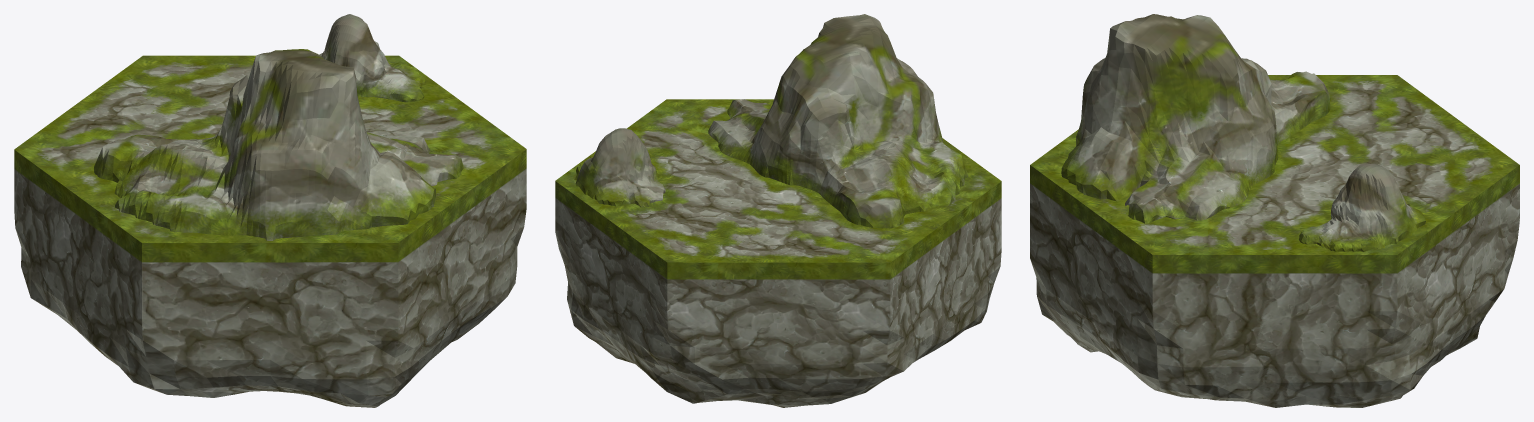
The model's file is mountainChunk.glb.
3 renders of one model, left to right at view 1: azimuth 30°, elevation 25°; view 2: azimuth 150°, elevation 25°; view 3: azimuth 270°, elevation 25°, orthographic. The views are drawn at different scales.
Visible parts, largest first — view 1: Cylinder; view 2: Cylinder; view 3: Cylinder.
Boxes of the visible parts, box(x1,y1,x2,y2) form: Cylinder: box(14, 14, 526, 407); Cylinder: box(555, 14, 1001, 407); Cylinder: box(1030, 14, 1519, 407).
Size of the model in its own units: 1 by 0.8401 by 1.15.
1 material, 1 textured.
